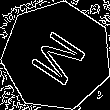M_SE: (23, 23, 91, 89)
